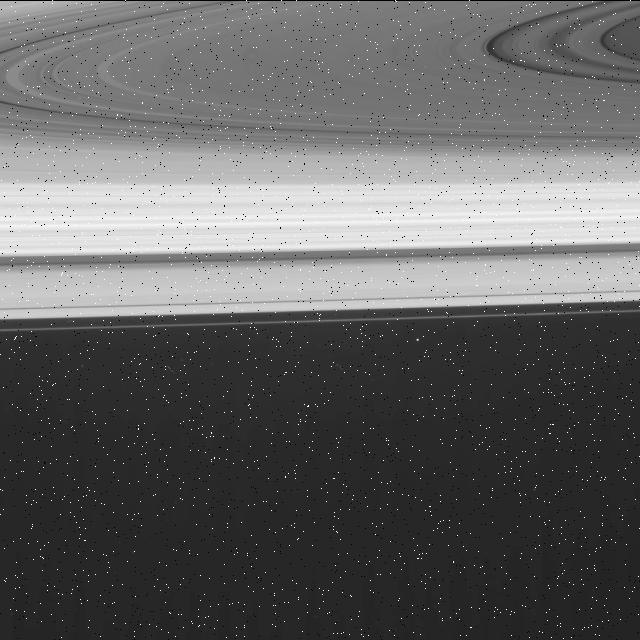Saturn: (0, 0, 640, 333)
